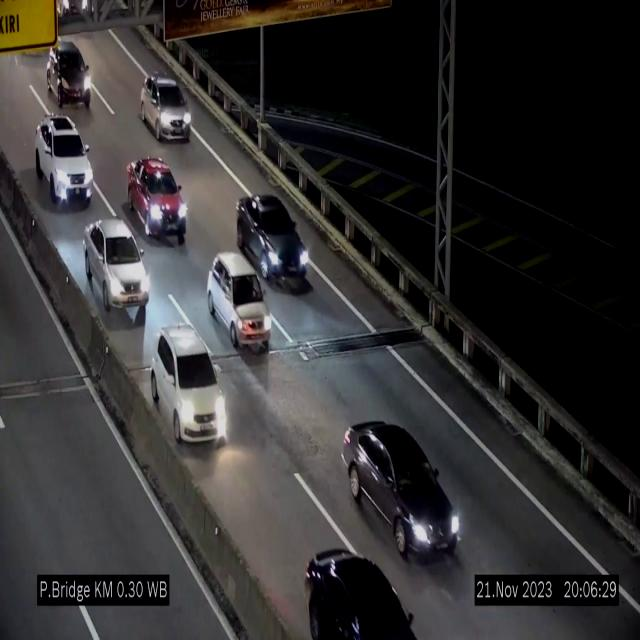Car: (340, 418, 462, 572), (298, 539, 423, 640), (150, 324, 228, 454), (82, 220, 152, 320), (206, 252, 272, 350), (238, 193, 308, 284), (36, 114, 93, 210), (127, 158, 187, 245), (42, 40, 100, 111), (140, 74, 192, 141)
